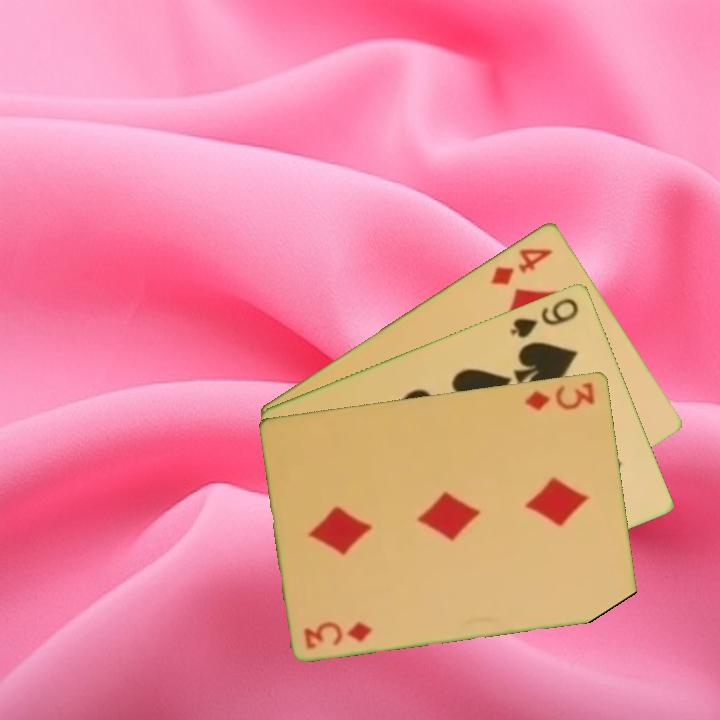3d: (522, 378, 598, 413), (301, 617, 376, 651)
4d: (487, 244, 556, 288)
9s: (507, 294, 582, 341)
